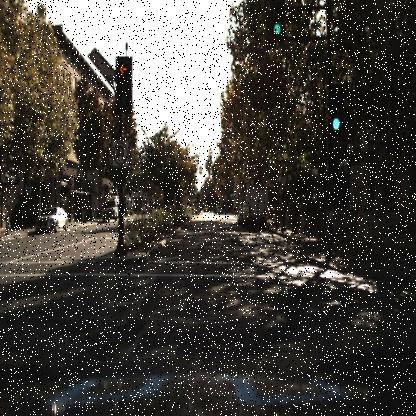car: (243, 182, 270, 228), (34, 205, 68, 235), (101, 192, 123, 223)
trafficLight-Green: (329, 84, 342, 138)
trafficLight-RedLeft: (114, 54, 132, 110), (116, 56, 132, 102)
truck: (242, 181, 270, 228)
